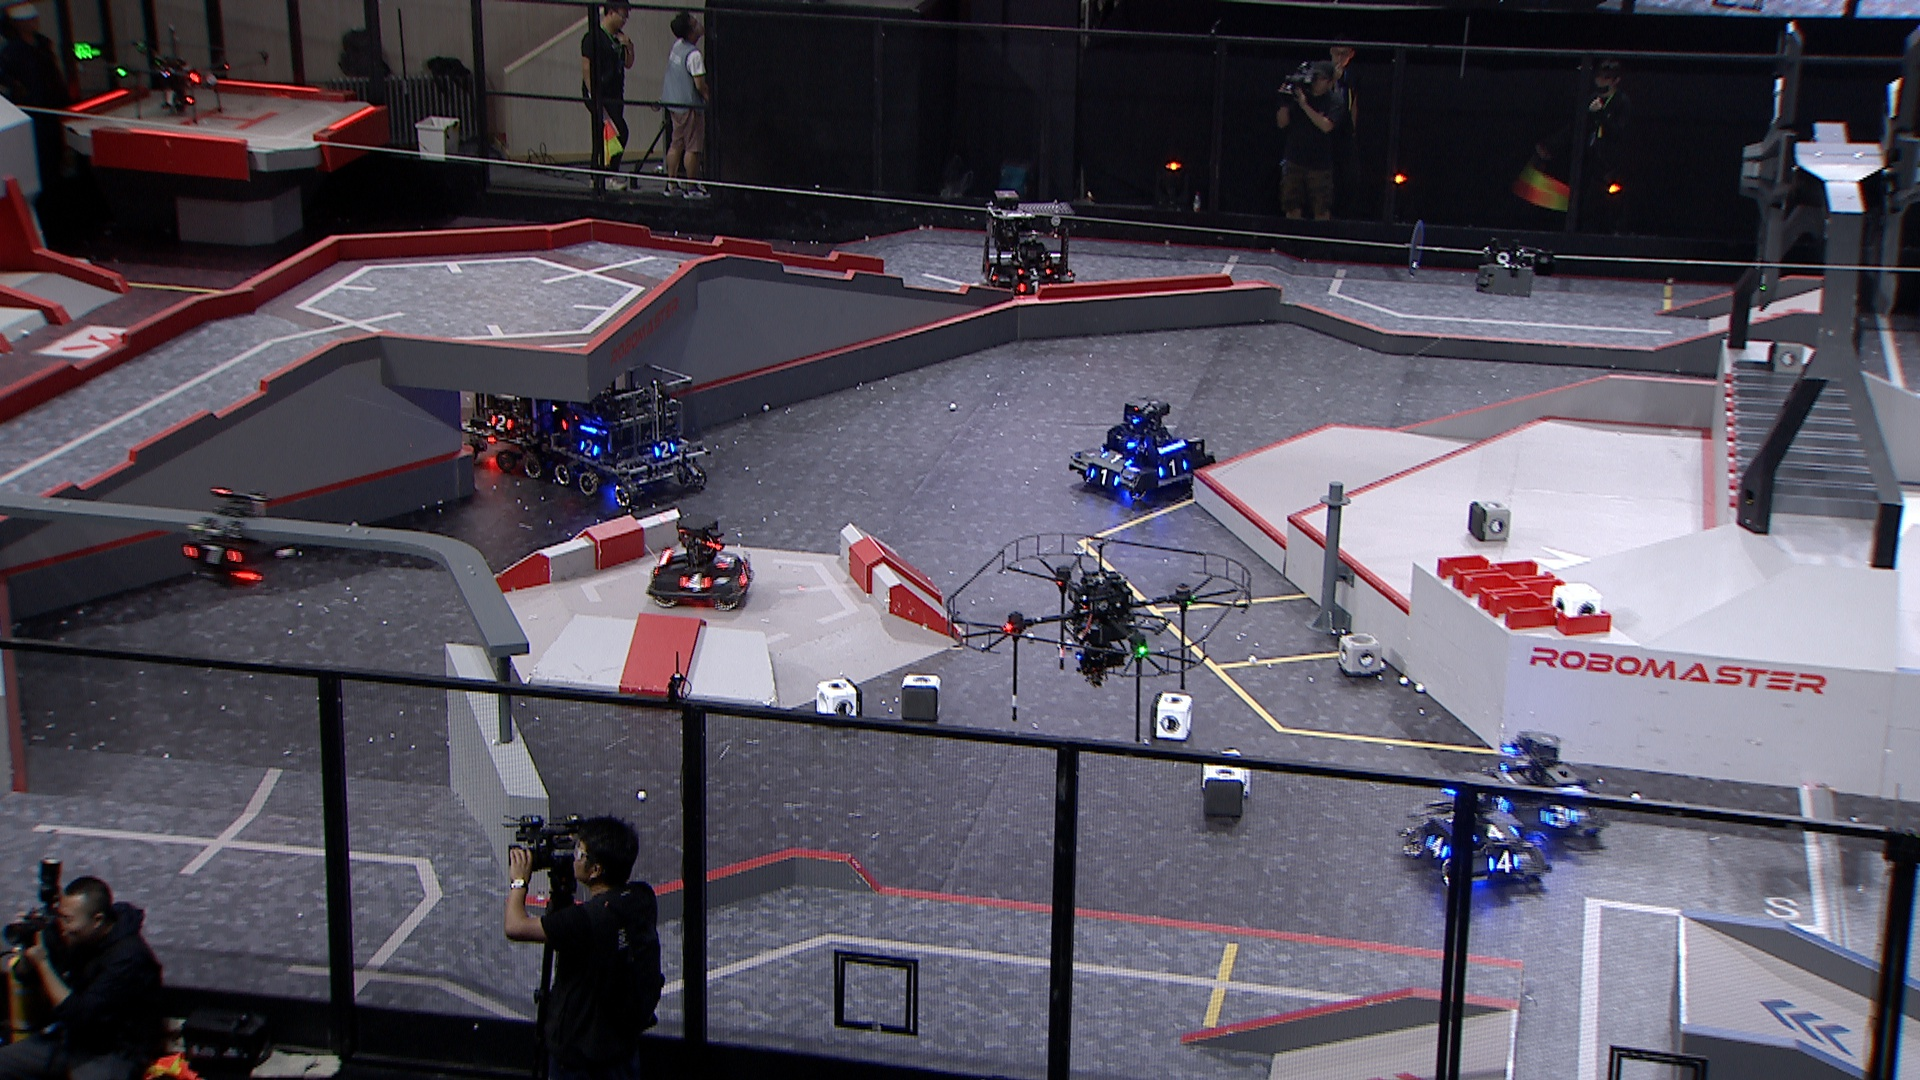armor: (179, 541, 244, 566), (1470, 822, 1520, 843), (1487, 847, 1520, 876), (1538, 803, 1580, 825), (1087, 467, 1122, 489), (1154, 458, 1189, 479), (680, 571, 713, 591), (1100, 450, 1135, 467), (1424, 835, 1449, 858), (576, 439, 604, 460), (487, 414, 516, 434), (651, 440, 678, 462), (1015, 264, 1054, 278), (1015, 280, 1048, 295), (713, 550, 738, 570), (738, 560, 752, 585), (982, 264, 998, 284)
car: (550, 357, 712, 508), (1394, 766, 1553, 889), (455, 353, 593, 483), (1477, 727, 1610, 847), (1068, 396, 1216, 501), (645, 513, 752, 612), (978, 200, 1077, 302)
watcher: (177, 485, 268, 589)
